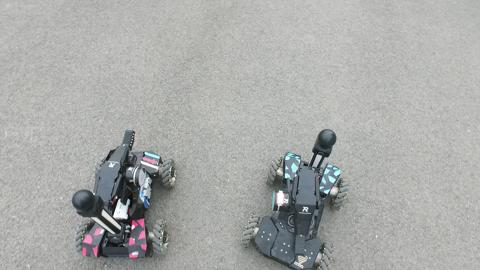chariot: (232, 120, 377, 270), (49, 125, 190, 268)
